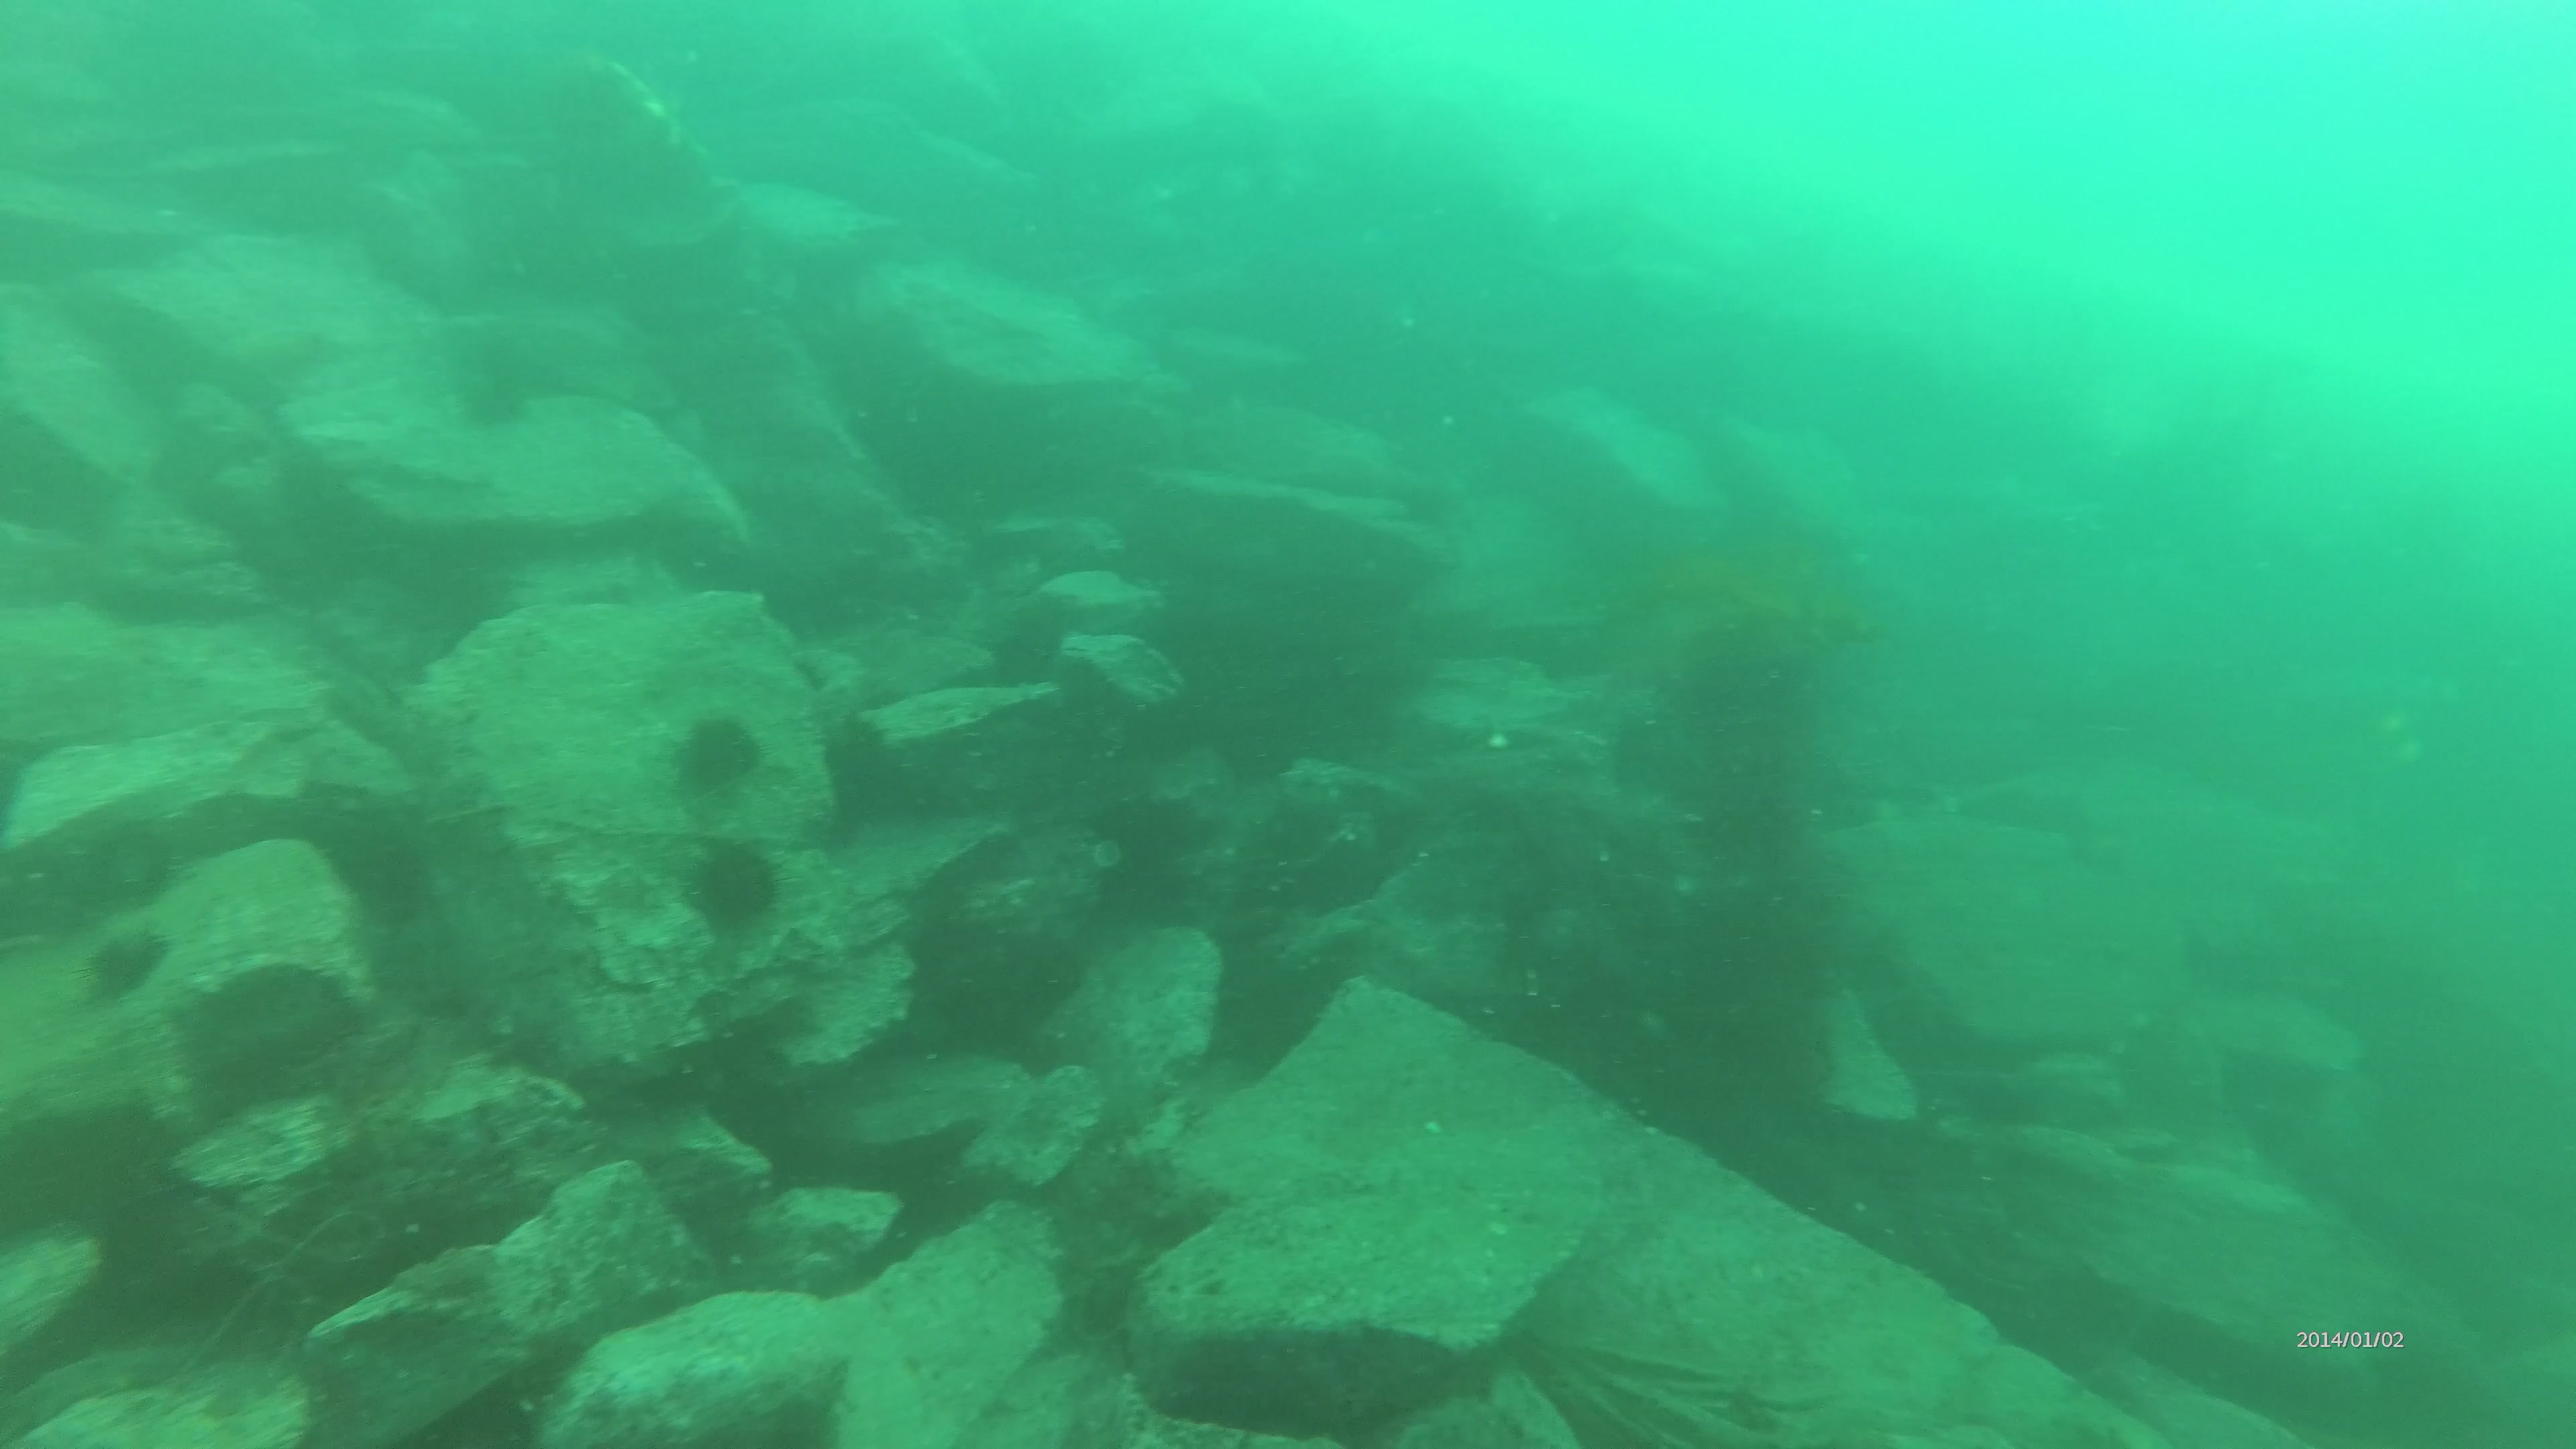echinus: (662, 702, 778, 801), (679, 842, 786, 936), (64, 922, 179, 1001), (444, 357, 534, 432)
holothurian: (303, 651, 462, 787)
